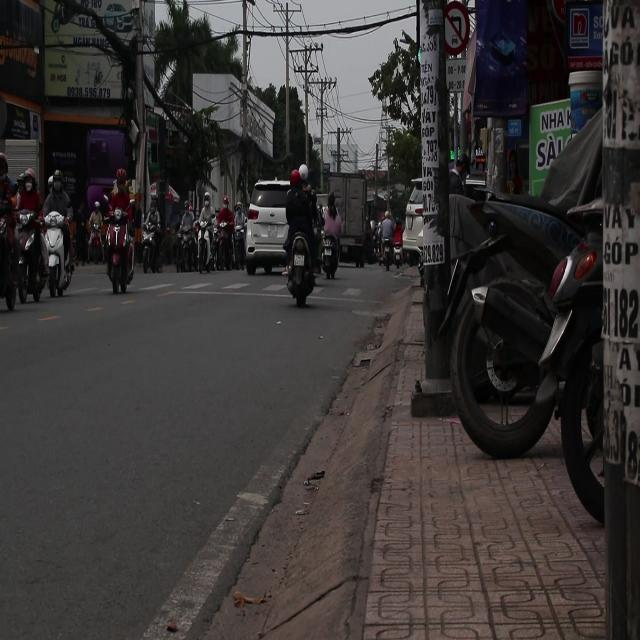car: (246, 178, 296, 278)
motorbike: (8, 198, 47, 306), (283, 224, 319, 310), (103, 209, 138, 294), (40, 213, 74, 297), (318, 215, 342, 282)
truck: (326, 173, 376, 263)
